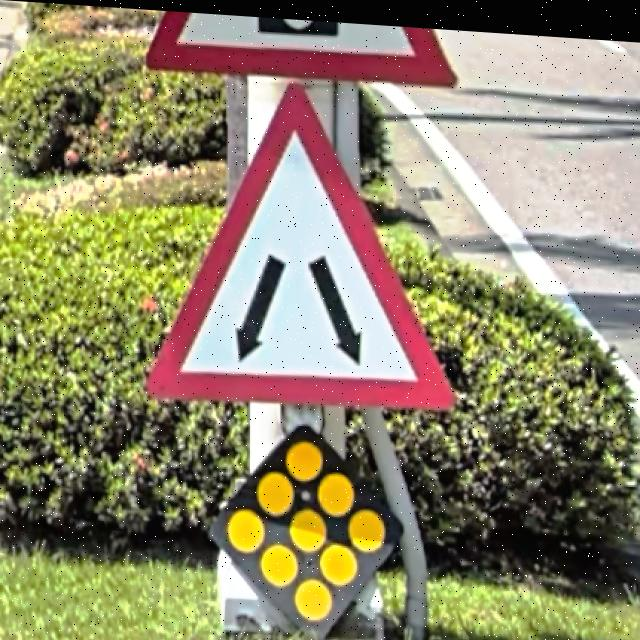diverge: (144, 79, 454, 405)
